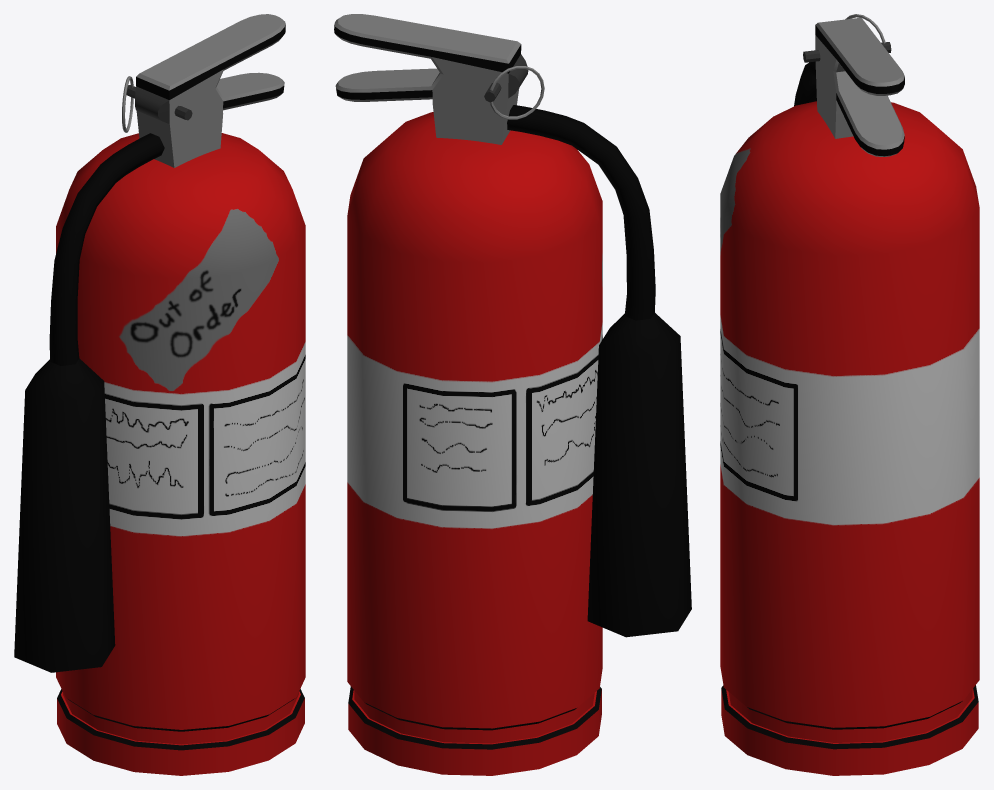
Rendered from Fire Extinguisher.fbx.
3 renders of one model, left to right at view 1: azimuth 30°, elevation 25°; view 2: azimuth 150°, elevation 25°; view 3: azimuth 270°, elevation 25°, orthographic. The views are drawn at different scales.
Visible parts, largest first — view 1: FireExhaust, BezierCurve.001; view 2: FireExhaust, BezierCurve.001; view 3: FireExhaust, BezierCurve.001.
Boxes of the visible parts, left/top/right/bottom form: FireExhaust: left=56, top=14, right=305, bottom=775; BezierCurve.001: left=14, top=133, right=164, bottom=672; FireExhaust: left=334, top=14, right=602, bottom=775; BezierCurve.001: left=507, top=105, right=691, bottom=637; FireExhaust: left=720, top=14, right=979, bottom=775; BezierCurve.001: left=794, top=61, right=816, bottom=106.
Size of the model in its own units: 61.69 by 131 by 44.16.
